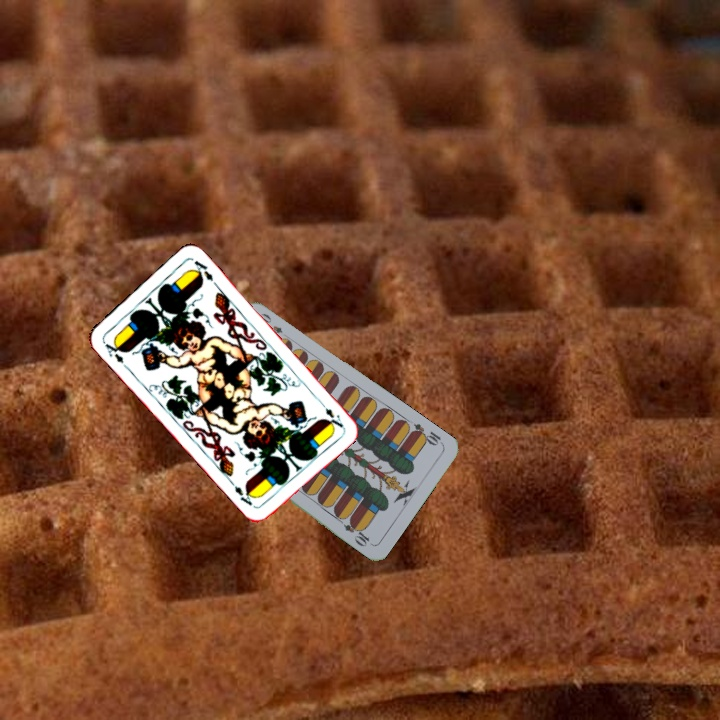E10: (407, 419, 446, 449)
EA: (315, 397, 346, 430), (100, 337, 126, 366)
